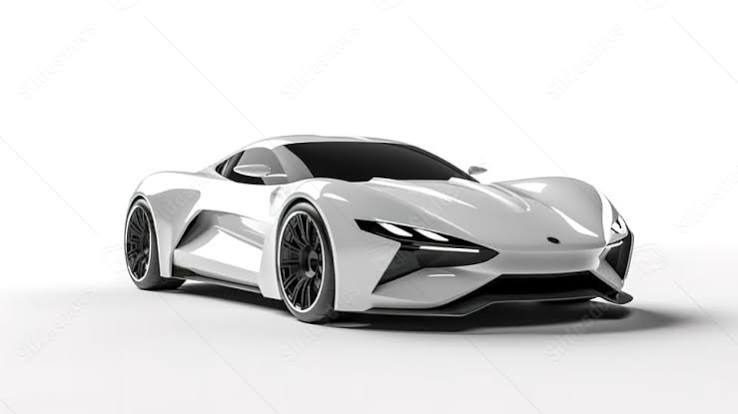car: (113, 138, 644, 323)
